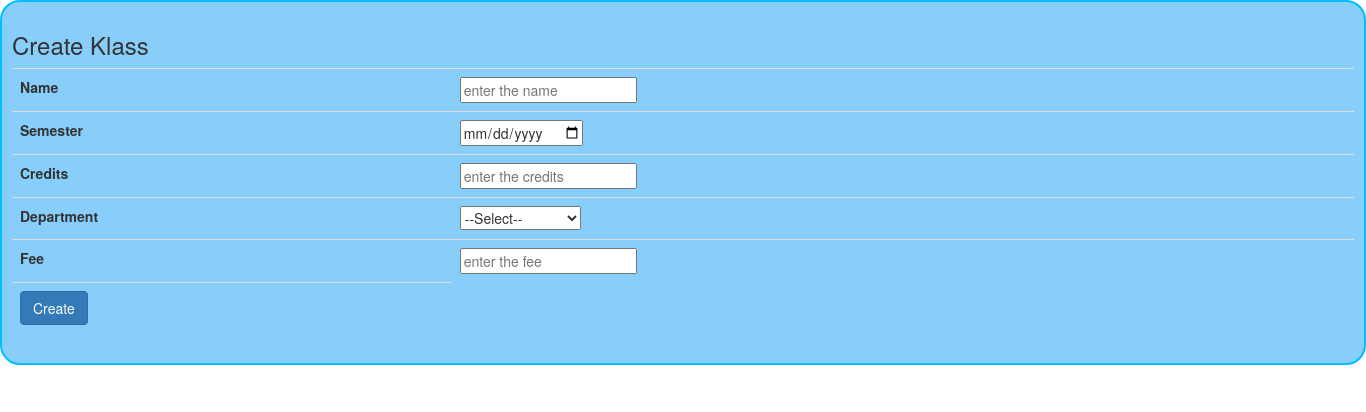
Test: Create Class › should show error when name is less than 5 characters
This screenshot has width=1366, height=412.
Click the button "Create" at point(54, 308), box [20,291,88,325]
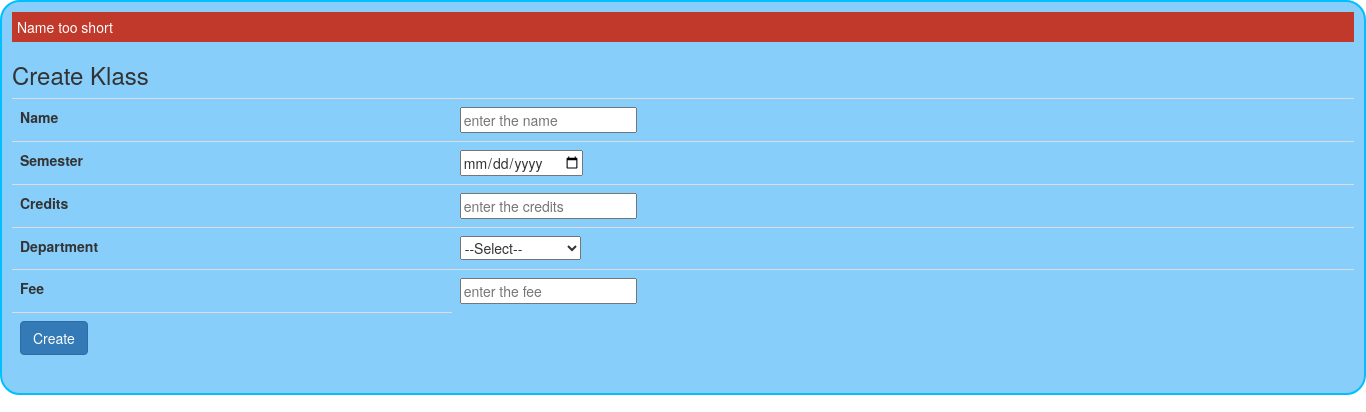
Expected: the text "Name too short" is shown, [12,12,1354,42]
